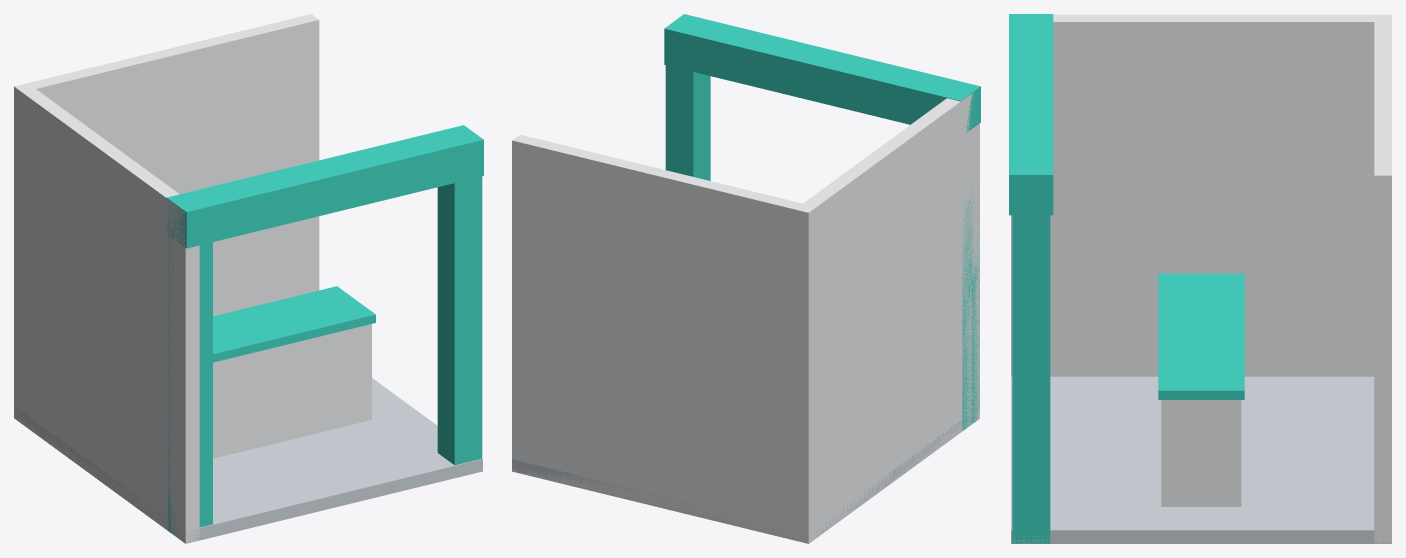
3 views of the same model, side by side, from view 1: azimuth 30°, elevation 25°; view 2: azimuth 150°, elevation 25°; view 3: azimuth 270°, elevation 25° (orthographic). The views are drawn at different scales.
Visible parts, largest first — view 1: Exhibition Booth Concept; view 2: Exhibition Booth Concept; view 3: Exhibition Booth Concept.
Boxes of the visible parts, x1,y1,x2,y2 form: Exhibition Booth Concept: (14,14,483,543); Exhibition Booth Concept: (512,14,980,543); Exhibition Booth Concept: (1009,14,1391,543).
Bounding box in the file's own units: 3 × 3.2 × 3.01.
